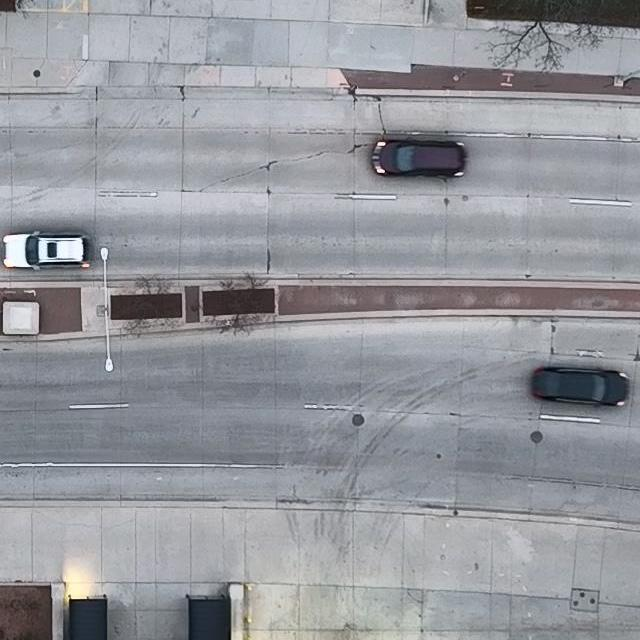car: (531, 365, 631, 406), (371, 139, 467, 179), (4, 230, 90, 270)
